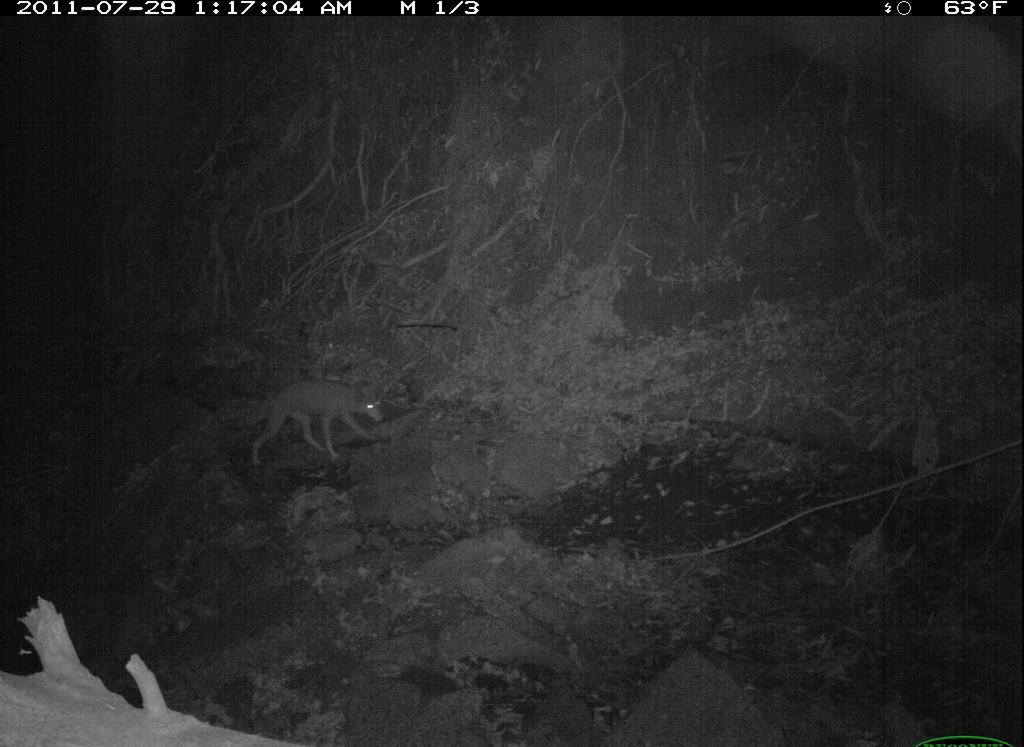coyote: (227, 369, 397, 486)
